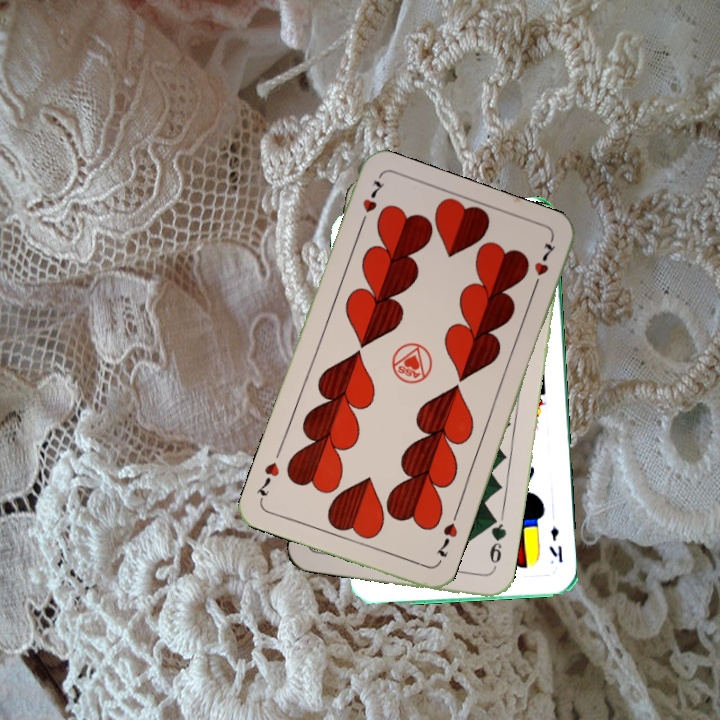EK: (545, 523, 566, 566)
G9: (485, 514, 509, 574)
H7: (355, 176, 388, 230), (432, 518, 460, 560)
